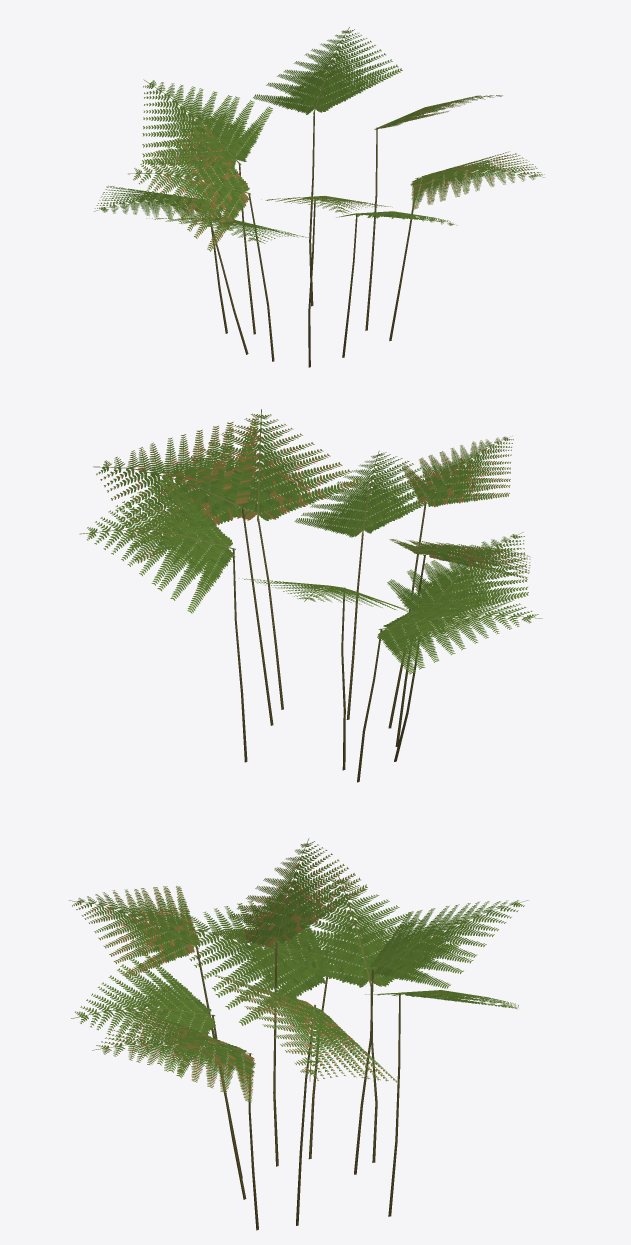
Rendered from bracken.glb.
3 views of the same model, one above another, from view 1: azimuth 30°, elevation 25°; view 2: azimuth 150°, elevation 25°; view 3: azimuth 270°, elevation 25° (orthographic). The views are drawn at different scales.
Visible parts, largest first — view 1: bracken_a_lod0; view 2: bracken_a_lod0; view 3: bracken_a_lod0.
Boxes of the visible parts, box(x1,y1,x2,y2) form: bracken_a_lod0: box(94, 27, 545, 367); bracken_a_lod0: box(79, 409, 542, 782); bracken_a_lod0: box(69, 838, 528, 1230).
Size of what is drawn, in the model's own units: 1.95 by 0.9404 by 1.79.
Materials: 2 (1 with a texture image).
